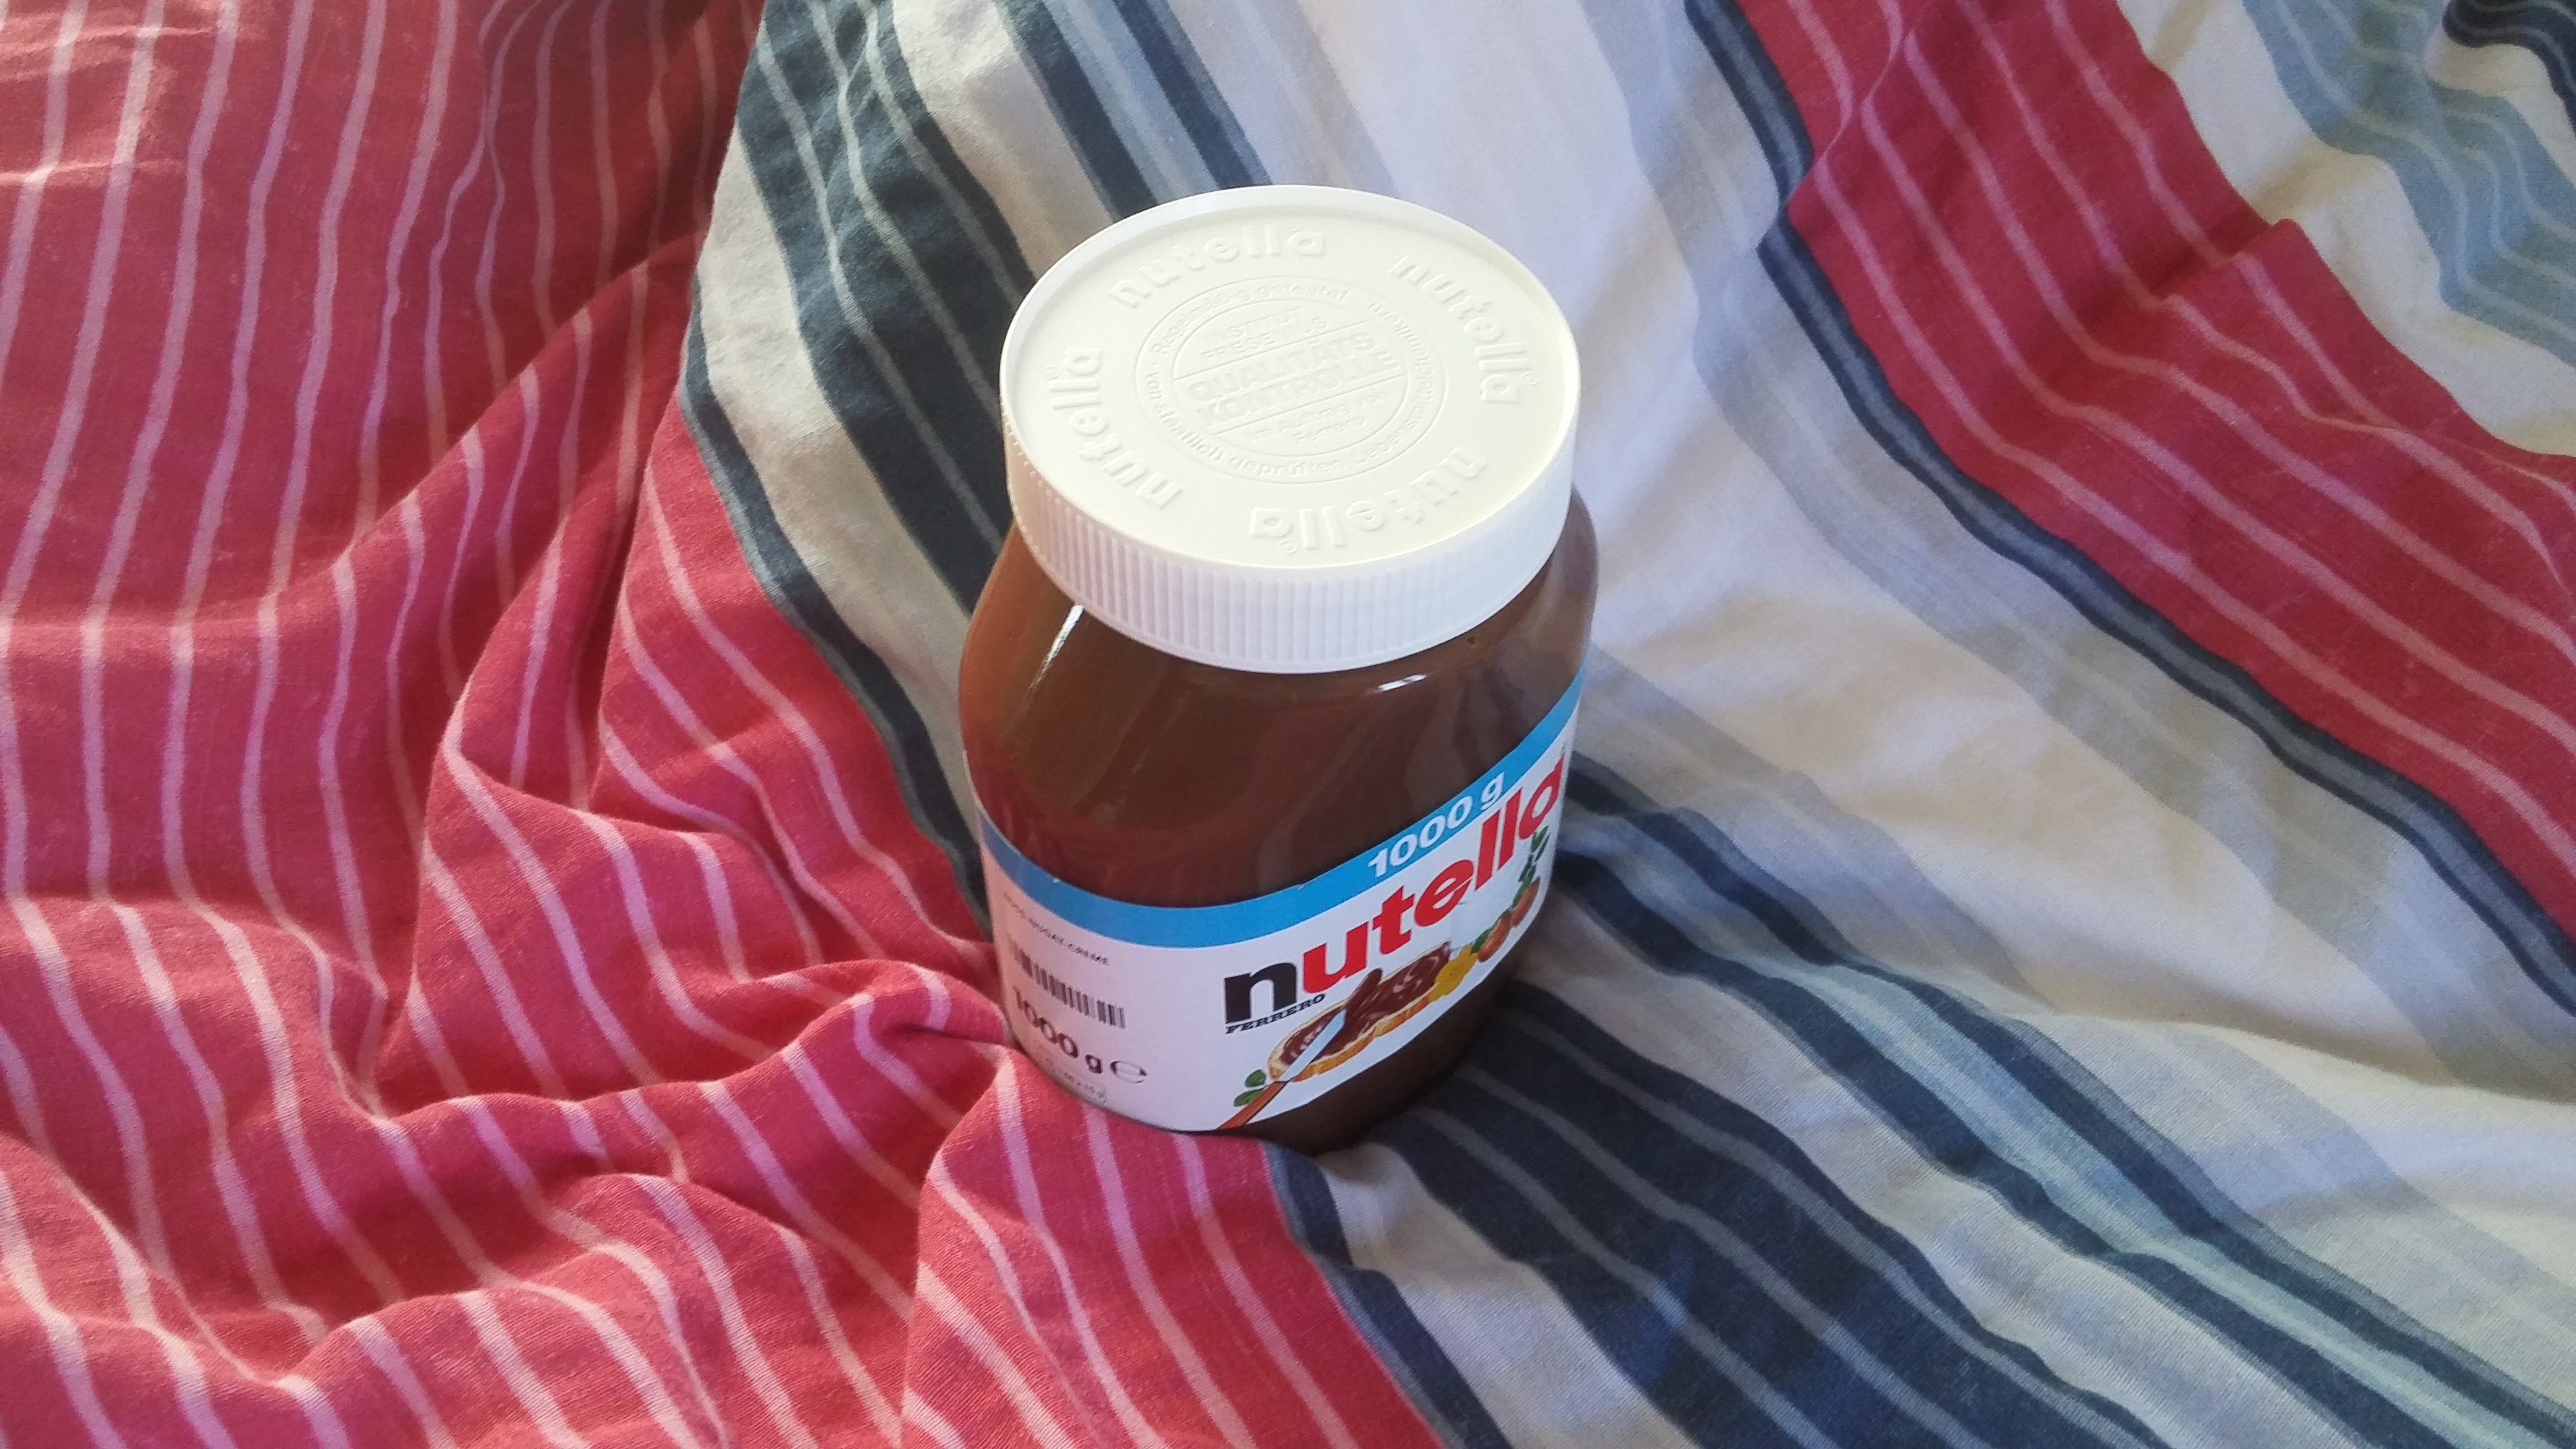nutella: (954, 188, 1601, 1166)
